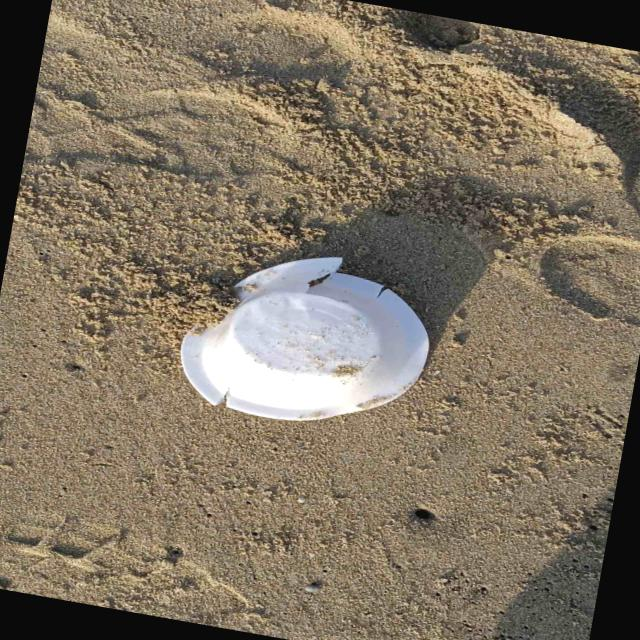xop: (181, 258, 429, 421)
